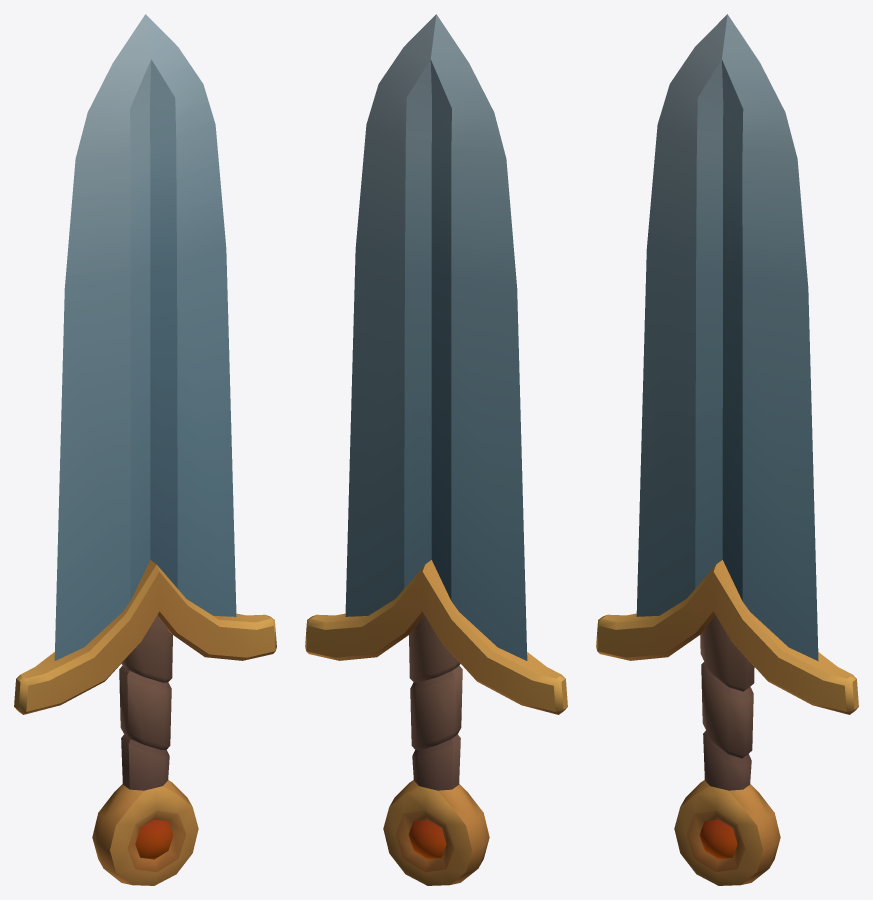
The model's file is AvianSwordsman_Sword.obj.
The picture shows the model from 3 angles, left to right: view 1: azimuth 30°, elevation 25°; view 2: azimuth 150°, elevation 25°; view 3: azimuth 330°, elevation 25°; orthographic projection.
Visible parts, largest first — view 1: AvianSwordsman_Sword; view 2: AvianSwordsman_Sword; view 3: AvianSwordsman_Sword.
Part boxes in pixels (<box>): AvianSwordsman_Sword: <box>14,14,276,885</box>; AvianSwordsman_Sword: <box>305,14,567,885</box>; AvianSwordsman_Sword: <box>596,14,858,885</box>.
Size of the model in its own units: 0.562 by 1.81 by 0.1061.
Materials: 1 (1 with a texture image).
